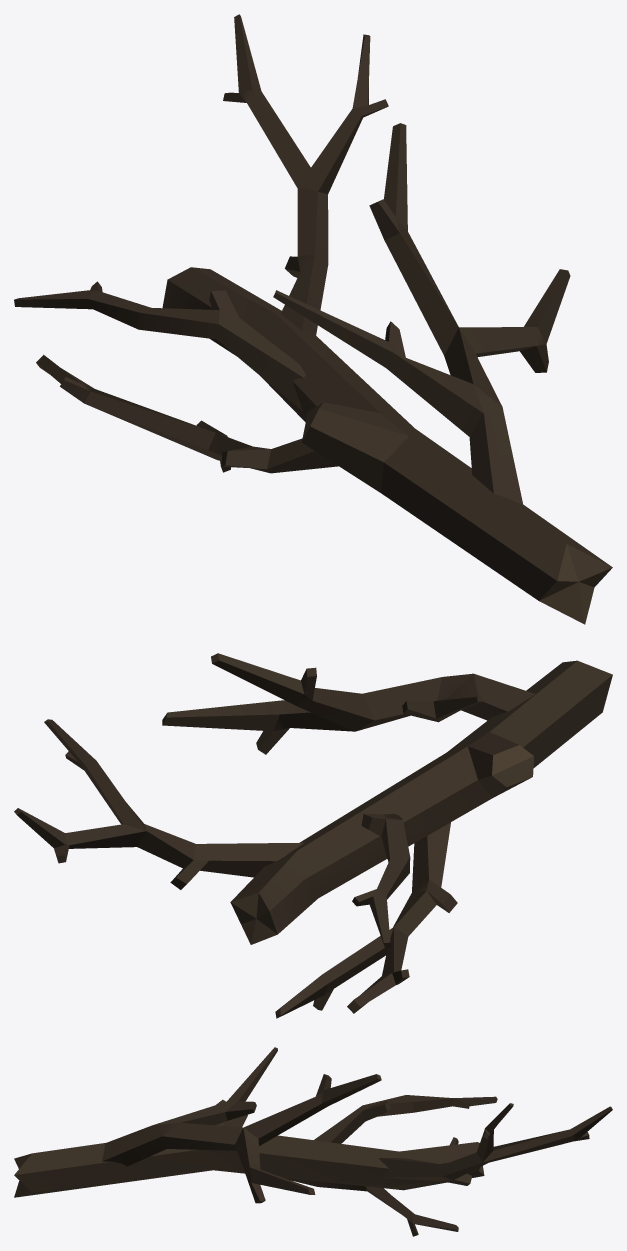
Rendered from synty-tree-branch-01.gltf.
3 renders of one model, top to bottom at view 1: azimuth 30°, elevation 25°; view 2: azimuth 150°, elevation 25°; view 3: azimuth 270°, elevation 25°, orthographic. The views are drawn at different scales.
Parts seen in each view (by area): view 1: SM_Tree_Branch_01; view 2: SM_Tree_Branch_01; view 3: SM_Tree_Branch_01.
Boxes of the visible parts, left/top/right/bottom form: SM_Tree_Branch_01: left=14, top=14, right=612, bottom=624; SM_Tree_Branch_01: left=14, top=653, right=612, bottom=1018; SM_Tree_Branch_01: left=14, top=1047, right=612, bottom=1236.
Bounding box in the file's own units: 1.3 × 1.04 × 2.74.
1 material, 1 textured.
